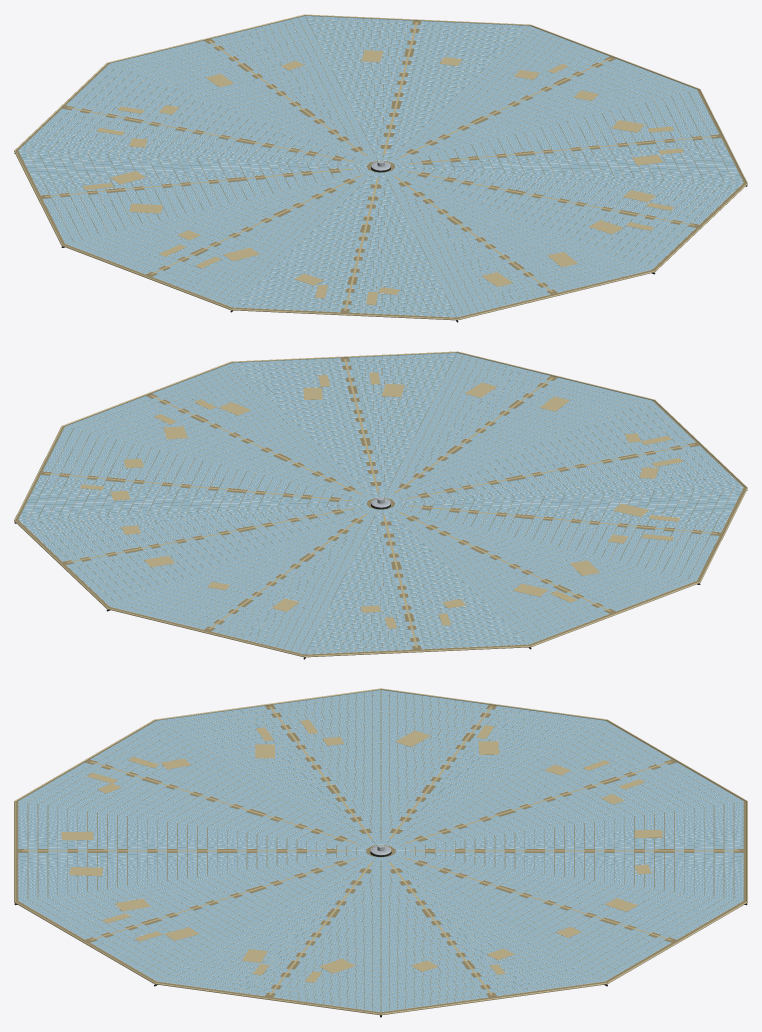
Rendered from phoenix-solar.glb.
3 views of the same model, one above another, from view 1: azimuth 30°, elevation 25°; view 2: azimuth 150°, elevation 25°; view 3: azimuth 270°, elevation 25° (orthographic). The views are drawn at different scales.
Visible parts, largest first — view 1: SOLAR_LAYER_BACKING_Phoenix_UltraFlex_Vectran_fabric, GLASS_SECTOR_8_Phoenix_UltraFlex_individual_cell_coverglass, GLASS_SECTOR_9_Phoenix_UltraFlex_individual_cell_coverglass, GLASS_SECTOR_7_Phoenix_UltraFlex_individual_cell_coverglass, CELL_SECTOR_8_Phoenix_UltraFlex_photovoltaic_cells, GLASS_SECTOR_10_Phoenix_UltraFlex_individual_cell_coverglass, CELL_SECTOR_10_Phoenix_UltraFlex_photovoltaic_cells, GLASS_SECTOR_3_Phoenix_UltraFlex_individual_cell_coverglass, GLASS_SECTOR_6_Phoenix_UltraFlex_individual_cell_coverglass, GLASS_SECTOR_4_Phoenix_UltraFlex_individual_cell_coverglass, GLASS_SECTOR_1_Phoenix_UltraFlex_individual_cell_coverglass, CELL_SECTOR_9_Phoenix_UltraFlex_photovoltaic_cells (+10 smaller); view 2: SOLAR_LAYER_BACKING_Phoenix_UltraFlex_Vectran_fabric, GLASS_SECTOR_9_Phoenix_UltraFlex_individual_cell_coverglass, GLASS_SECTOR_10_Phoenix_UltraFlex_individual_cell_coverglass, GLASS_SECTOR_8_Phoenix_UltraFlex_individual_cell_coverglass, CELL_SECTOR_8_Phoenix_UltraFlex_photovoltaic_cells, GLASS_SECTOR_4_Phoenix_UltraFlex_individual_cell_coverglass, GLASS_SECTOR_7_Phoenix_UltraFlex_individual_cell_coverglass, CELL_SECTOR_9_Phoenix_UltraFlex_photovoltaic_cells, GLASS_SECTOR_5_Phoenix_UltraFlex_individual_cell_coverglass, GLASS_SECTOR_3_Phoenix_UltraFlex_individual_cell_coverglass, CELL_SECTOR_3_Phoenix_UltraFlex_photovoltaic_cells, GLASS_SECTOR_6_Phoenix_UltraFlex_individual_cell_coverglass (+10 smaller); view 3: SOLAR_LAYER_BACKING_Phoenix_UltraFlex_Vectran_fabric, GLASS_SECTOR_8_Phoenix_UltraFlex_individual_cell_coverglass, GLASS_SECTOR_9_Phoenix_UltraFlex_individual_cell_coverglass, CELL_SECTOR_9_Phoenix_UltraFlex_photovoltaic_cells, GLASS_SECTOR_3_Phoenix_UltraFlex_individual_cell_coverglass, GLASS_SECTOR_7_Phoenix_UltraFlex_individual_cell_coverglass, GLASS_SECTOR_10_Phoenix_UltraFlex_individual_cell_coverglass, CELL_SECTOR_7_Phoenix_UltraFlex_photovoltaic_cells, CELL_SECTOR_10_Phoenix_UltraFlex_photovoltaic_cells, GLASS_SECTOR_4_Phoenix_UltraFlex_individual_cell_coverglass, CELL_SECTOR_4_Phoenix_UltraFlex_photovoltaic_cells, GLASS_SECTOR_5_Phoenix_UltraFlex_individual_cell_coverglass (+12 smaller).
Boxes of the visible parts, <box> form: SOLAR_LAYER_BACKING_Phoenix_UltraFlex_Vectran_fabric: <box>16,16,745,318</box>; GLASS_SECTOR_8_Phoenix_UltraFlex_individual_cell_coverglass: <box>111,16,377,161</box>; GLASS_SECTOR_9_Phoenix_UltraFlex_individual_cell_coverglass: <box>306,15,528,160</box>; GLASS_SECTOR_7_Phoenix_UltraFlex_individual_cell_coverglass: <box>19,63,369,165</box>; CELL_SECTOR_8_Phoenix_UltraFlex_photovoltaic_cells: <box>110,16,377,162</box>; GLASS_SECTOR_10_Phoenix_UltraFlex_individual_cell_coverglass: <box>387,26,695,162</box>; CELL_SECTOR_10_Phoenix_UltraFlex_photovoltaic_cells: <box>387,26,696,163</box>; GLASS_SECTOR_3_Phoenix_UltraFlex_individual_cell_coverglass: <box>384,171,650,316</box>; GLASS_SECTOR_6_Phoenix_UltraFlex_individual_cell_coverglass: <box>18,150,367,243</box>; GLASS_SECTOR_4_Phoenix_UltraFlex_individual_cell_coverglass: <box>233,172,455,317</box>; GLASS_SECTOR_1_Phoenix_UltraFlex_individual_cell_coverglass: <box>394,89,743,182</box>; CELL_SECTOR_9_Phoenix_UltraFlex_photovoltaic_cells: <box>306,16,527,160</box>; SOLAR_LAYER_BACKING_Phoenix_UltraFlex_Vectran_fabric: <box>16,353,745,655</box>; GLASS_SECTOR_9_Phoenix_UltraFlex_individual_cell_coverglass: <box>19,504,369,606</box>; GLASS_SECTOR_10_Phoenix_UltraFlex_individual_cell_coverglass: <box>18,426,367,519</box>; GLASS_SECTOR_8_Phoenix_UltraFlex_individual_cell_coverglass: <box>111,508,377,653</box>; CELL_SECTOR_8_Phoenix_UltraFlex_photovoltaic_cells: <box>110,508,377,654</box>; GLASS_SECTOR_4_Phoenix_UltraFlex_individual_cell_coverglass: <box>392,400,742,502</box>; GLASS_SECTOR_7_Phoenix_UltraFlex_individual_cell_coverglass: <box>306,509,528,654</box>; CELL_SECTOR_9_Phoenix_UltraFlex_photovoltaic_cells: <box>19,504,369,606</box>; GLASS_SECTOR_5_Phoenix_UltraFlex_individual_cell_coverglass: <box>394,487,743,580</box>; GLASS_SECTOR_3_Phoenix_UltraFlex_individual_cell_coverglass: <box>384,353,650,498</box>; CELL_SECTOR_3_Phoenix_UltraFlex_photovoltaic_cells: <box>384,353,651,499</box>; GLASS_SECTOR_6_Phoenix_UltraFlex_individual_cell_coverglass: <box>387,507,695,643</box>; SOLAR_LAYER_BACKING_Phoenix_UltraFlex_Vectran_fabric: <box>15,690,746,1013</box>; GLASS_SECTOR_8_Phoenix_UltraFlex_individual_cell_coverglass: <box>395,801,743,900</box>; GLASS_SECTOR_9_Phoenix_UltraFlex_individual_cell_coverglass: <box>390,853,742,980</box>; CELL_SECTOR_9_Phoenix_UltraFlex_photovoltaic_cells: <box>390,853,742,981</box>; GLASS_SECTOR_3_Phoenix_UltraFlex_individual_cell_coverglass: <box>18,801,366,900</box>; GLASS_SECTOR_7_Phoenix_UltraFlex_individual_cell_coverglass: <box>390,721,742,848</box>; GLASS_SECTOR_10_Phoenix_UltraFlex_individual_cell_coverglass: <box>381,856,603,1011</box>; CELL_SECTOR_7_Phoenix_UltraFlex_photovoltaic_cells: <box>390,721,743,848</box>; CELL_SECTOR_10_Phoenix_UltraFlex_photovoltaic_cells: <box>381,856,604,1011</box>; GLASS_SECTOR_4_Phoenix_UltraFlex_individual_cell_coverglass: <box>19,721,371,848</box>; CELL_SECTOR_4_Phoenix_UltraFlex_photovoltaic_cells: <box>18,721,371,848</box>; GLASS_SECTOR_5_Phoenix_UltraFlex_individual_cell_coverglass: <box>157,690,380,845</box>.
Bounding box in the file's own units: 2.1 × 0.0455 × 2.
